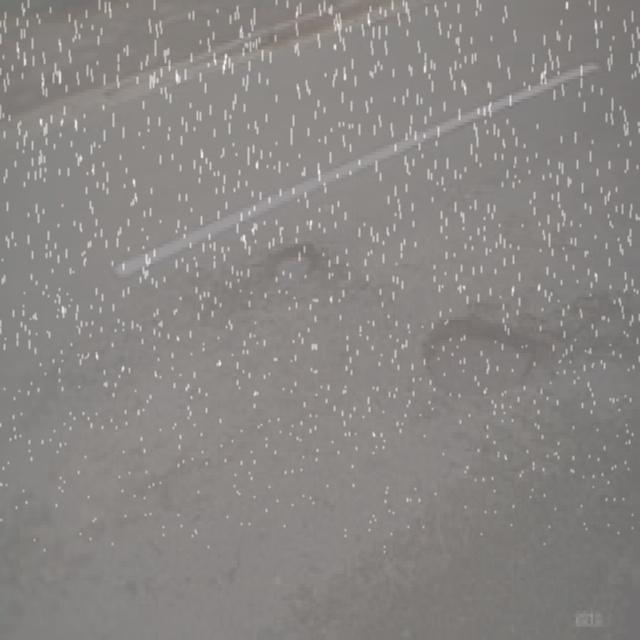Pothole: (414, 298, 615, 418), (242, 234, 328, 303)
